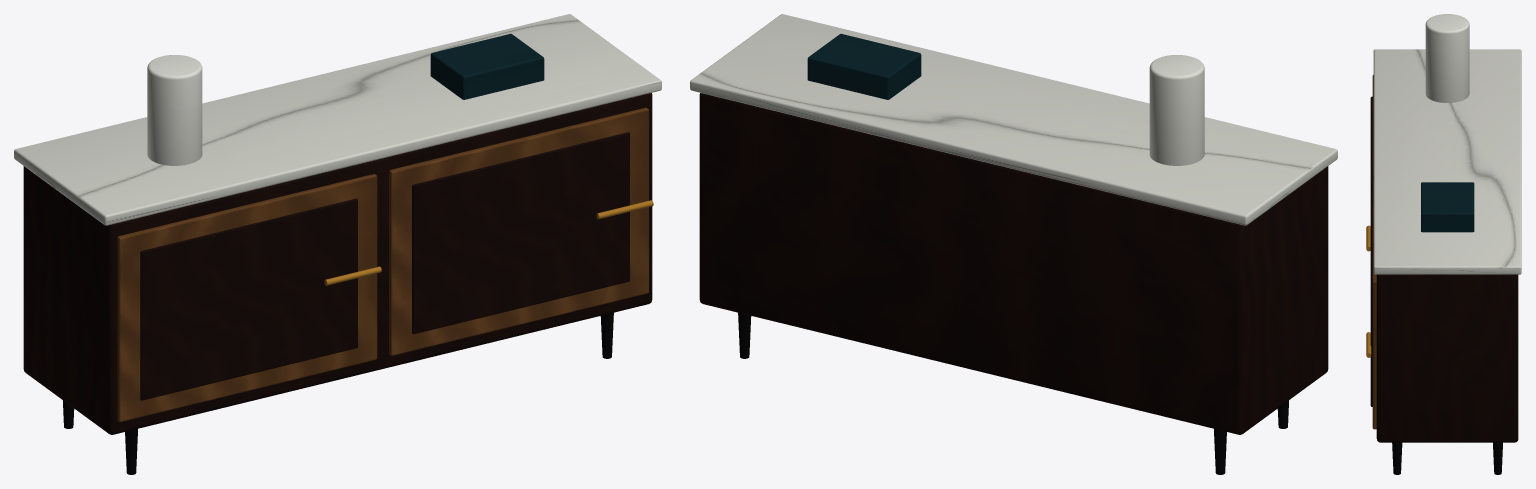
Rendered from razoredge-modern-sideboard.glb.
The picture shows the model from 3 angles, left to right: view 1: azimuth 30°, elevation 25°; view 2: azimuth 150°, elevation 25°; view 3: azimuth 270°, elevation 25°; orthographic projection. The views are drawn at different scales.
Parts seen in each view (by area): view 1: top, body, door_panel, door_panel.001, door, door.001, vase_a, book_stack; view 2: body, top, vase_a, book_stack; view 3: top, body, vase_a, book_stack, door.001, door_panel.001, door_panel, leg.002, leg.003, door.
Boxes of the visible parts, x1=… form: top: x1=14, y1=14, x2=661, y2=225; body: x1=23, y1=93, x2=652, y2=434; door_panel: x1=140, y1=198, x2=357, y2=400; door_panel.001: x1=412, y1=132, x2=629, y2=334; door: x1=117, y1=174, x2=377, y2=422; door.001: x1=389, y1=107, x2=648, y2=355; vase_a: x1=147, y1=55, x2=202, y2=165; book_stack: x1=430, y1=33, x2=544, y2=99; body: x1=699, y1=93, x2=1328, y2=434; top: x1=690, y1=14, x2=1337, y2=225; vase_a: x1=1149, y1=55, x2=1204, y2=165; book_stack: x1=807, y1=33, x2=921, y2=99; top: x1=1373, y1=49, x2=1521, y2=274; body: x1=1376, y1=274, x2=1518, y2=442; vase_a: x1=1425, y1=14, x2=1469, y2=102; book_stack: x1=1421, y1=182, x2=1474, y2=232; door.001: x1=1372, y1=181, x2=1376, y2=429; door_panel.001: x1=1370, y1=203, x2=1372, y2=406; door_panel: x1=1370, y1=96, x2=1372, y2=203; leg.002: x1=1392, y1=442, x2=1402, y2=474; leg.003: x1=1493, y1=442, x2=1502, y2=474; door: x1=1372, y1=75, x2=1373, y2=181.
Bounding box in the file's own units: 1.64 × 1.03 × 0.493.
Materials: 7 (6 with a texture image).
